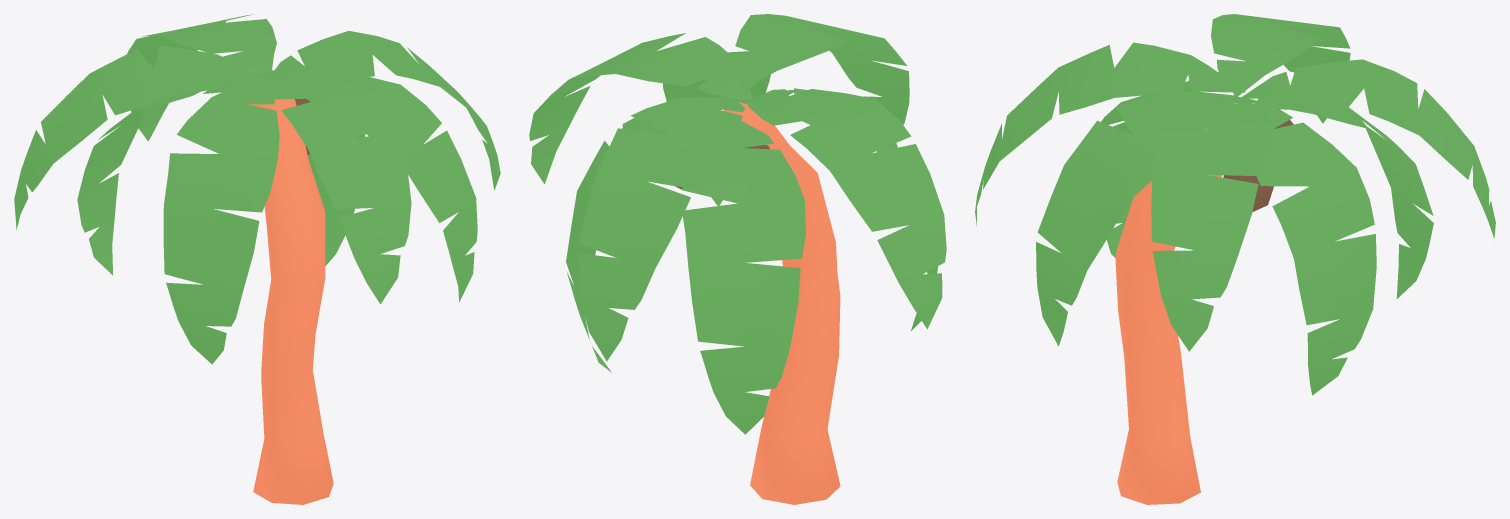
File: tree.glb
3 renders of one model, left to right at view 1: azimuth 30°, elevation 25°; view 2: azimuth 150°, elevation 25°; view 3: azimuth 270°, elevation 25°, orthographic. The views are drawn at different scales.
Visible parts, largest first — view 1: Cylinder.001; view 2: Cylinder.001; view 3: Cylinder.001.
Part boxes in pixels (x1,y1,x2,y2): Cylinder.001: (14,14,500,504); Cylinder.001: (529,14,946,504); Cylinder.001: (975,14,1495,504).
Size of the model in its own units: 7.46 by 6.85 by 7.58.
